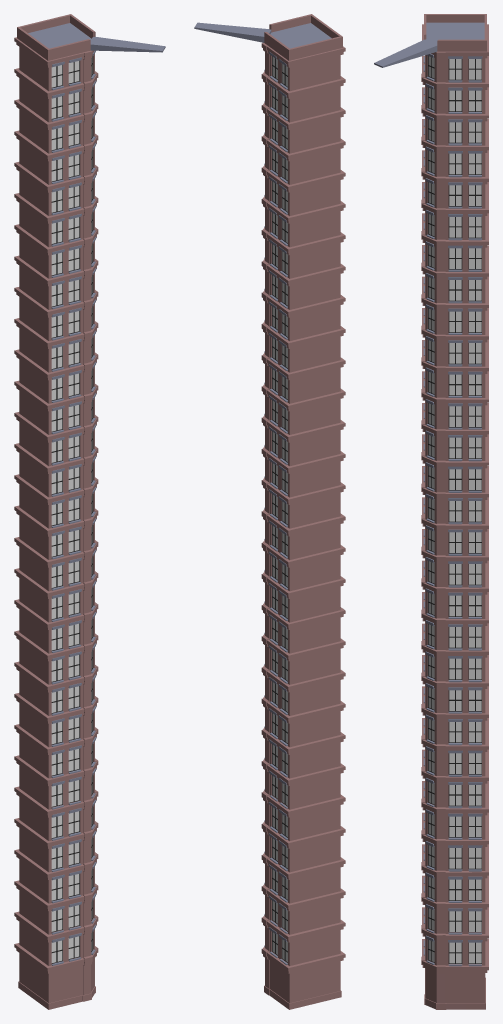
Rendered from sky high nyc building lowpoly.fbx.
3 renders of one model, left to right at view 1: azimuth 30°, elevation 25°; view 2: azimuth 210°, elevation 25°; view 3: azimuth 270°, elevation 25°, orthographic.
Visible parts, largest first — view 1: Cube, window 2, window 1, window 5; view 2: Cube, window 4, window 3; view 3: Cube, window 3, window 4, window 5, window 1, window 2.
Boxes of the visible parts, <box> form: Cube: <box>14,14,165,1009</box>; window 2: <box>68,57,81,961</box>; window 1: <box>51,61,64,965</box>; window 5: <box>91,50,96,954</box>; Cube: <box>194,14,345,1009</box>; window 4: <box>278,59,287,964</box>; window 3: <box>268,51,277,957</box>; Cube: <box>374,14,488,1009</box>; window 3: <box>448,56,462,966</box>; window 4: <box>468,56,482,966</box>; window 5: <box>425,53,434,964</box>; window 1: <box>423,56,424,947</box>; window 2: <box>423,65,424,955</box>.
Size of the model in its own units: 1155 by 10761 by 1155.
